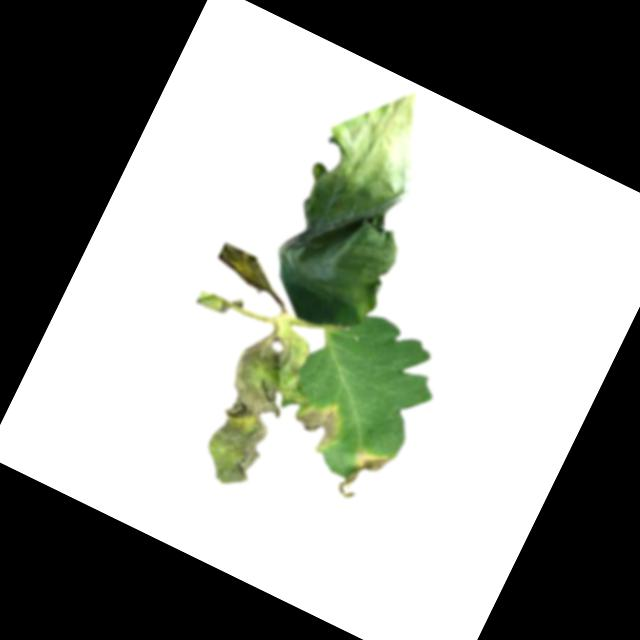Late_blight: (246, 65, 467, 348), (187, 318, 330, 499), (333, 441, 391, 509), (291, 392, 349, 453)
